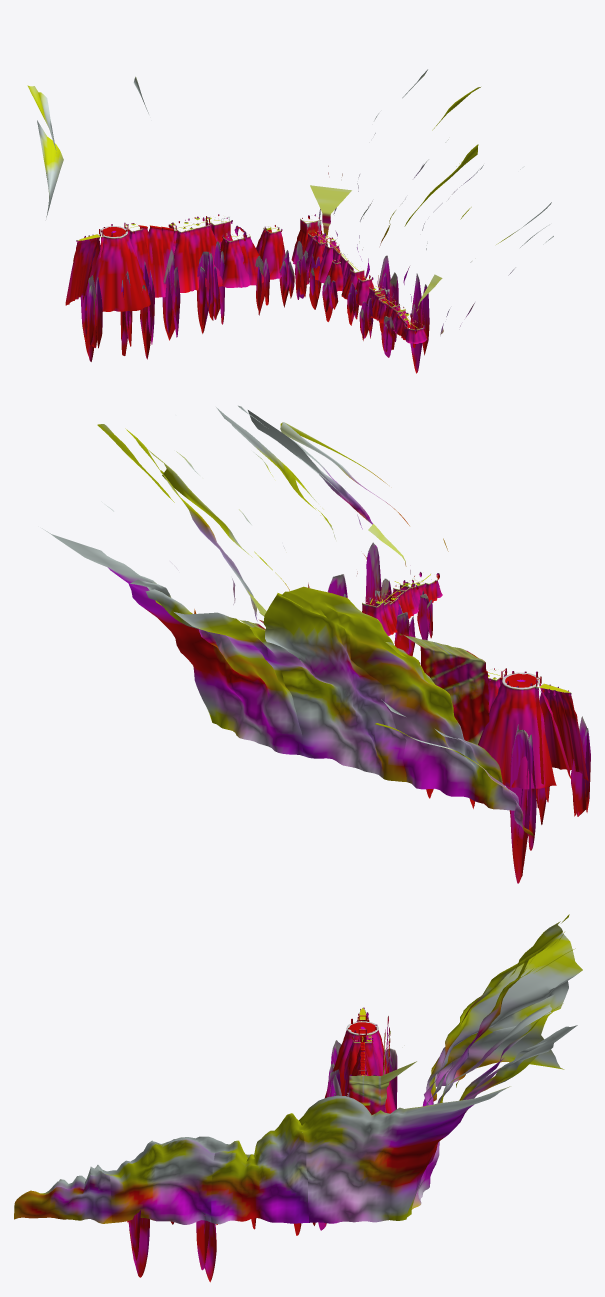
File: terrain.glb
3 renders of one model, top to bottom at view 1: azimuth 30°, elevation 25°; view 2: azimuth 150°, elevation 25°; view 3: azimuth 270°, elevation 25°, orthographic. The views are drawn at different scales.
Parts seen in each view (by area): view 1: rock_a12, rock_a10, rock_a11, rock_a13, rock_a1, rock_a9, rock_a7, rock_a3, rock_a4, rock_a8, rock_a5, rock_a2 (+4 smaller); view 2: rock_m5, rock_m4, rock_m6, rock_a13, rock_a12, rock_c11, rock_a1, rock_m0, rock_m2, rock_a2, rock_m1, rock_m7; view 3: rock_m3, rock_m2, rock_m1, rock_m6, rock_m7, rock_m0, rock_m4, rock_m5, rock_a12, rock_c10, rock_a11, rock_a3 (+2 smaller).
Part boxes in pixels (bbox=[...]): rock_a12: bbox=[83, 231, 154, 359]; rock_a10: bbox=[168, 216, 222, 333]; rock_a11: bbox=[125, 223, 180, 340]; rock_a13: bbox=[65, 234, 103, 361]; rock_a1: bbox=[383, 273, 429, 373]; rock_a9: bbox=[205, 214, 249, 324]; rock_a7: bbox=[256, 225, 306, 307]; rock_a3: bbox=[341, 255, 398, 350]; rock_a4: bbox=[318, 242, 355, 321]; rock_a8: bbox=[232, 225, 269, 315]; rock_a5: bbox=[298, 233, 336, 309]; rock_a2: bbox=[359, 285, 396, 340]; rock_m5: bbox=[239, 591, 406, 781]; rock_m4: bbox=[42, 528, 304, 756]; rock_m6: bbox=[289, 586, 507, 809]; rock_a13: bbox=[510, 683, 590, 883]; rock_a12: bbox=[478, 679, 571, 824]; rock_c11: bbox=[404, 635, 489, 744]; rock_a1: bbox=[365, 542, 442, 640]; rock_m0: bbox=[238, 405, 448, 551]; rock_m2: bbox=[125, 428, 289, 621]; rock_a2: bbox=[362, 594, 415, 656]; rock_m1: bbox=[216, 407, 366, 587]; rock_m7: bbox=[375, 723, 533, 835]; rock_m3: bbox=[297, 1086, 510, 1223]; rock_m2: bbox=[211, 1113, 308, 1224]; rock_m1: bbox=[102, 1136, 216, 1224]; rock_m6: bbox=[422, 914, 582, 1106]; rock_m7: bbox=[436, 981, 568, 1086]; rock_m0: bbox=[14, 1165, 111, 1223]; rock_m4: bbox=[407, 1025, 577, 1217]; rock_m5: bbox=[426, 948, 575, 1105]; rock_a12: bbox=[325, 1026, 395, 1113]; rock_c10: bbox=[349, 1056, 416, 1114]; rock_a11: bbox=[331, 1036, 379, 1096]; rock_a3: bbox=[196, 1215, 217, 1282].
Bounding box in the file's own units: 577 × 371 × 645.
